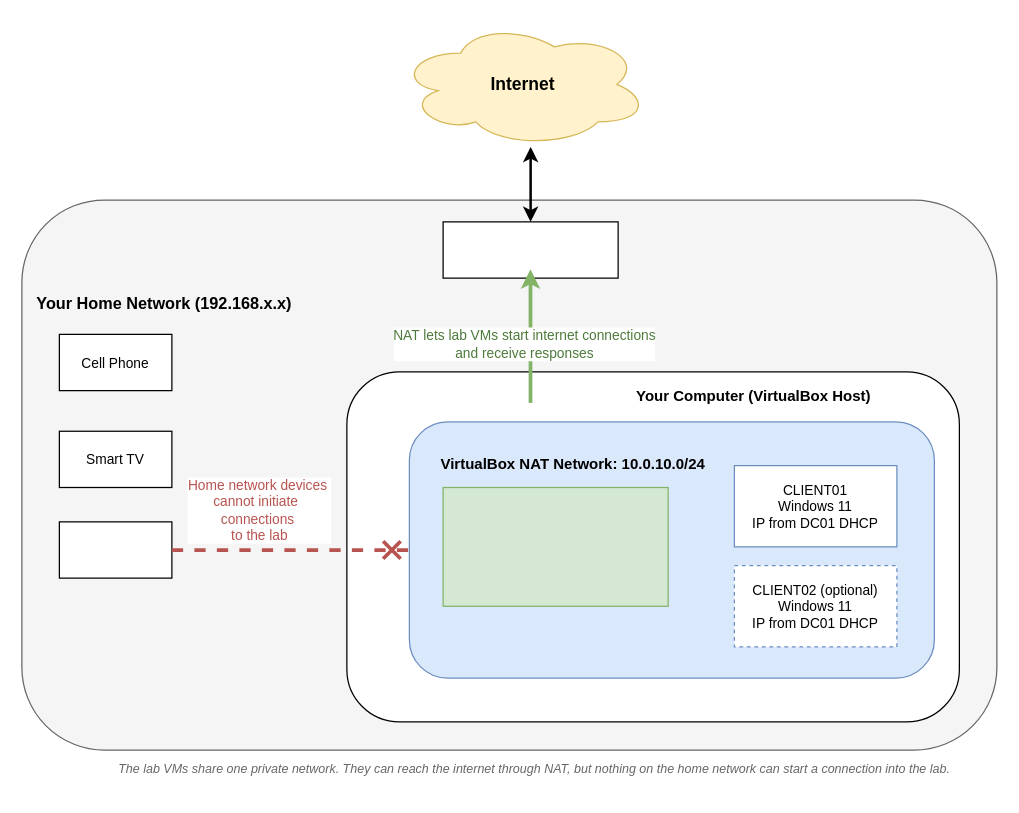
The diagram is 1019 pixels wide and 813 high, and some of its shapes have lost their labels. Here are the shapes that lost their labels. From the top down, the centre of each, then its label:
(x=530, y=249): Home Router
(x=115, y=549): Laptop
(x=555, y=546): DC01 Windows Server 2025 10.0.10.10 (static) AD DS + DNS + DHCP
